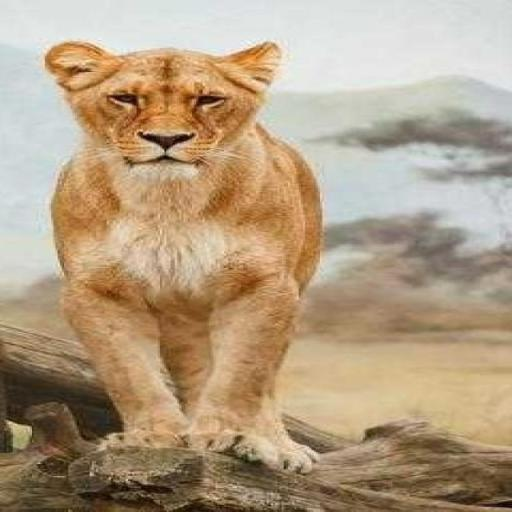Lion: (40, 38, 327, 474)
